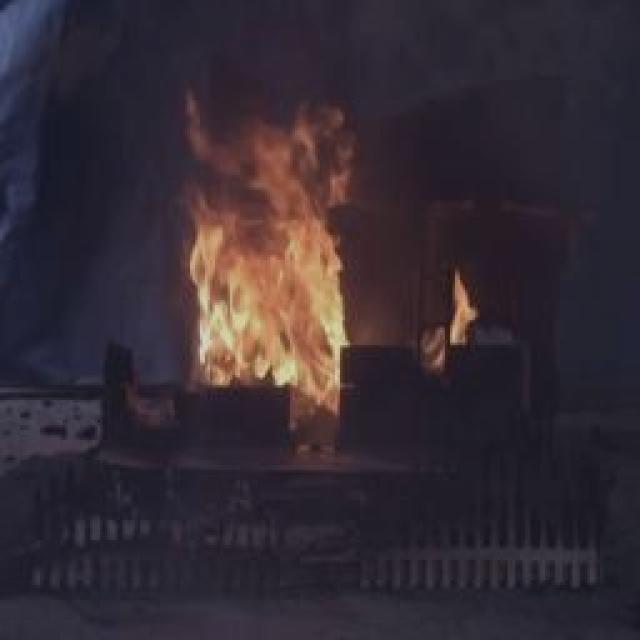fire: (152, 70, 360, 420)
